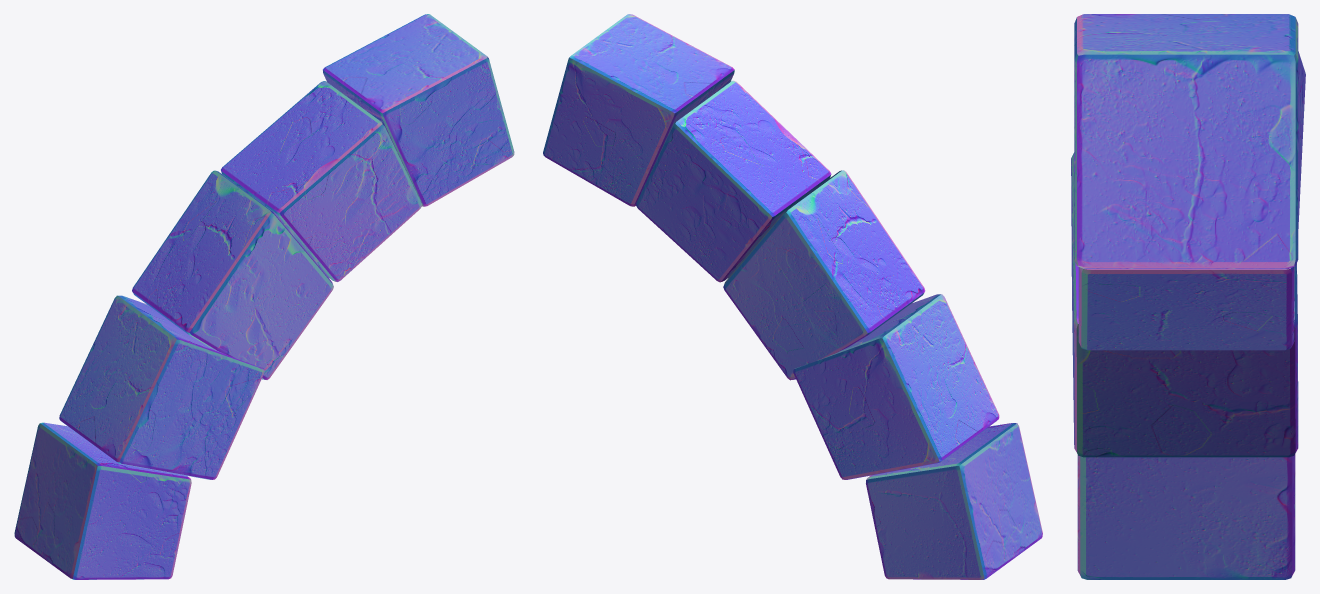
File: Dungeon_Pillar1Curved.fbx
3 views of the same model, side by side, from view 1: azimuth 30°, elevation 25°; view 2: azimuth 150°, elevation 25°; view 3: azimuth 270°, elevation 25° (orthographic). The views are drawn at different scales.
Parts seen in each view (by area): view 1: MeshHP; view 2: MeshHP; view 3: MeshHP.
Part boxes in pixels (x1,y1,x2,y2): MeshHP: [14, 14, 514, 579]; MeshHP: [543, 14, 1042, 579]; MeshHP: [1071, 14, 1305, 579].
Size of the model in its own units: 4.75 by 4.58 by 1.21.
1 material, 1 textured.
